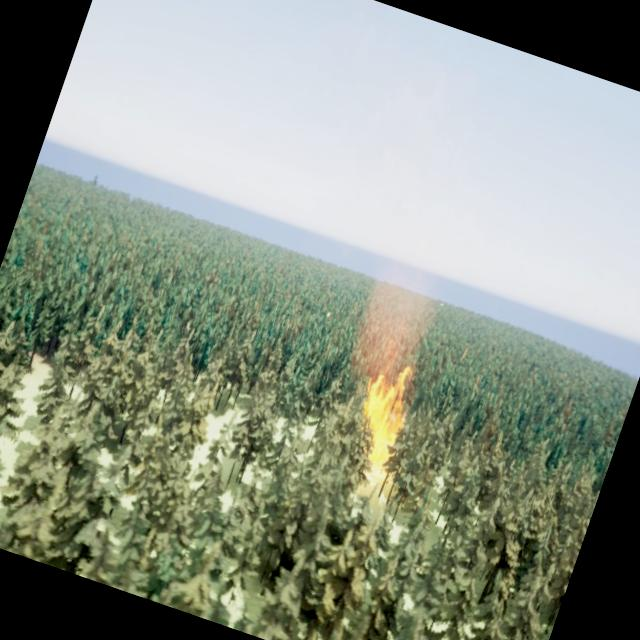fire: (332, 352, 429, 482)
smoke: (341, 252, 447, 400)
